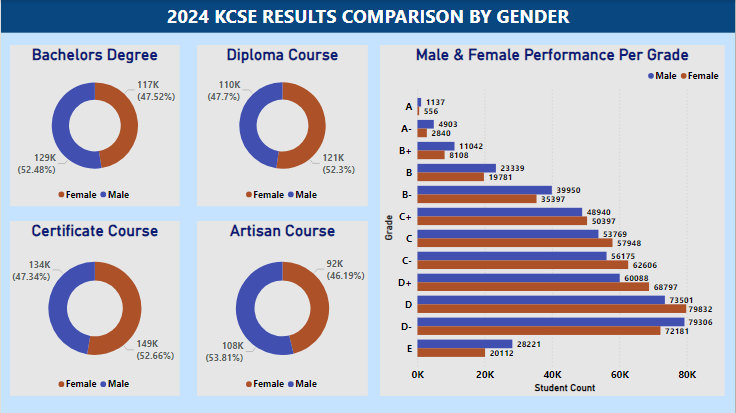

What the dashboard file says about the page in this screenshot:
{"tool":"powerbi","page":{"name":"Page 2","canvas":[1280,720],"ordinal":1},"visuals":[{"type":"donutChart","title":"Bachelors Degree ","fields":{"Y":["KCSE RESULTS.female_to_uni","KCSE RESULTS.male_to_uni"]},"box":[15.2,78.4,296.1,280.8],"z":0},{"type":"donutChart","title":"Diploma Course","fields":{"Y":["KCSE RESULTS.female_to_dip","KCSE RESULTS.male_to_dip"]},"box":[341.8,78.4,298.2,280.8],"z":1000},{"type":"donutChart","title":"Certificate Course","fields":{"Y":["KCSE RESULTS.female_to_cert","KCSE RESULTS.male_to_cert"]},"box":[15.2,385.3,296.1,304.8],"z":2000},{"type":"donutChart","title":"Artisan Course","fields":{"Y":["KCSE RESULTS.female_to_artisan","KCSE RESULTS.male_to_artisan"]},"box":[341.8,385.3,298.2,304.8],"z":3000},{"type":"textbox","box":[0,0,1280,56.6],"z":4000},{"type":"clusteredBarChart","title":"Male & Female Performance  Per Grade","fields":{"Category":["KCSE RESULTS.Grade"],"Y":["Sum(KCSE RESULTS.Male)","Sum(KCSE RESULTS.Female)"]},"box":[661.8,78.4,600.8,611.7],"z":5000}]}

Visuals, with their boxes in screenshot pixels (x1, y1, x2, y2), scaled from the page's 1280x720 canvas onto the 736x413 screenshot:
"Bachelors Degree " donutChart: box(9, 45, 179, 206)
"Diploma Course" donutChart: box(197, 45, 368, 206)
"Certificate Course" donutChart: box(9, 221, 179, 396)
"Artisan Course" donutChart: box(197, 221, 368, 396)
textbox: box(0, 0, 735, 32)
"Male & Female Performance  Per Grade" clusteredBarChart: box(381, 45, 726, 396)
